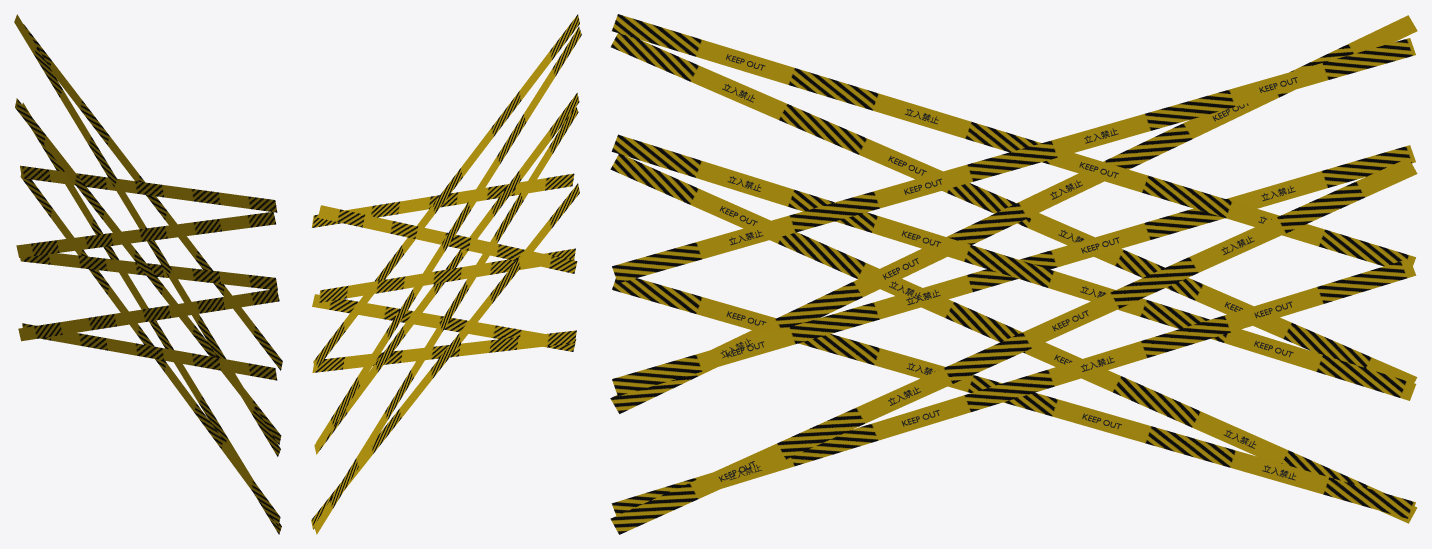
Rendered from Do-not-enter tape.glb.
The picture shows the model from 3 angles, left to right: view 1: azimuth 30°, elevation 25°; view 2: azimuth 150°, elevation 25°; view 3: azimuth 270°, elevation 25°; orthographic projection. The views are drawn at different scales.
Parts seen in each view (by area): view 1: CautionTape_6, CautionTape_4, CautionTape_3, CautionTape_9, CautionTape_8, CautionTape_0, CautionTape_7, CautionTape_1, CautionTape_2, CautionTape_5; view 2: CautionTape_4, CautionTape_3, CautionTape_6, CautionTape_9, CautionTape_7, CautionTape_8, CautionTape_0, CautionTape_1, CautionTape_2, CautionTape_5; view 3: CautionTape_5, CautionTape_2, CautionTape_9, CautionTape_8, CautionTape_1, CautionTape_7, CautionTape_4, CautionTape_3, CautionTape_0, CautionTape_6.
Part boxes in pixels (left/top/right/bottom): CautionTape_6: left=14, top=14, right=280, bottom=456; CautionTape_4: left=16, top=211, right=275, bottom=257; CautionTape_3: left=18, top=289, right=279, bottom=341; CautionTape_9: left=20, top=165, right=277, bottom=212; CautionTape_8: left=20, top=253, right=277, bottom=290; CautionTape_0: left=20, top=174, right=280, bottom=526; CautionTape_7: left=22, top=323, right=277, bottom=380; CautionTape_1: left=15, top=98, right=281, bottom=444; CautionTape_2: left=23, top=24, right=282, bottom=370; CautionTape_5: left=22, top=102, right=281, bottom=534; CautionTape_4: left=316, top=27, right=581, bottom=450; CautionTape_3: left=314, top=106, right=578, bottom=534; CautionTape_6: left=318, top=205, right=577, bottom=273; CautionTape_9: left=313, top=14, right=579, bottom=370; CautionTape_7: left=311, top=183, right=579, bottom=529; CautionTape_8: left=314, top=93, right=579, bottom=454; CautionTape_0: left=312, top=330, right=576, bottom=372; CautionTape_1: left=318, top=248, right=575, bottom=302; CautionTape_2: left=311, top=173, right=574, bottom=227; CautionTape_5: left=312, top=294, right=576, bottom=351; CautionTape_5: left=610, top=158, right=1417, bottom=534; CautionTape_2: left=612, top=38, right=1415, bottom=283; CautionTape_9: left=612, top=14, right=1415, bottom=266; CautionTape_8: left=611, top=134, right=1416, bottom=400; CautionTape_1: left=612, top=145, right=1415, bottom=396; CautionTape_7: left=612, top=278, right=1415, bottom=519; CautionTape_4: left=611, top=33, right=1417, bottom=382; CautionTape_3: left=610, top=153, right=1417, bottom=523; CautionTape_0: left=611, top=258, right=1416, bottom=515; CautionTape_6: left=610, top=15, right=1417, bottom=413.
Bounding box in the file's own units: 0.0322 × 1.29 × 1.82.
2 materials, 1 textured.
